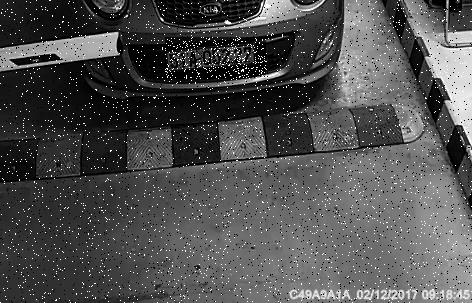License-plate: (167, 38, 269, 80)
